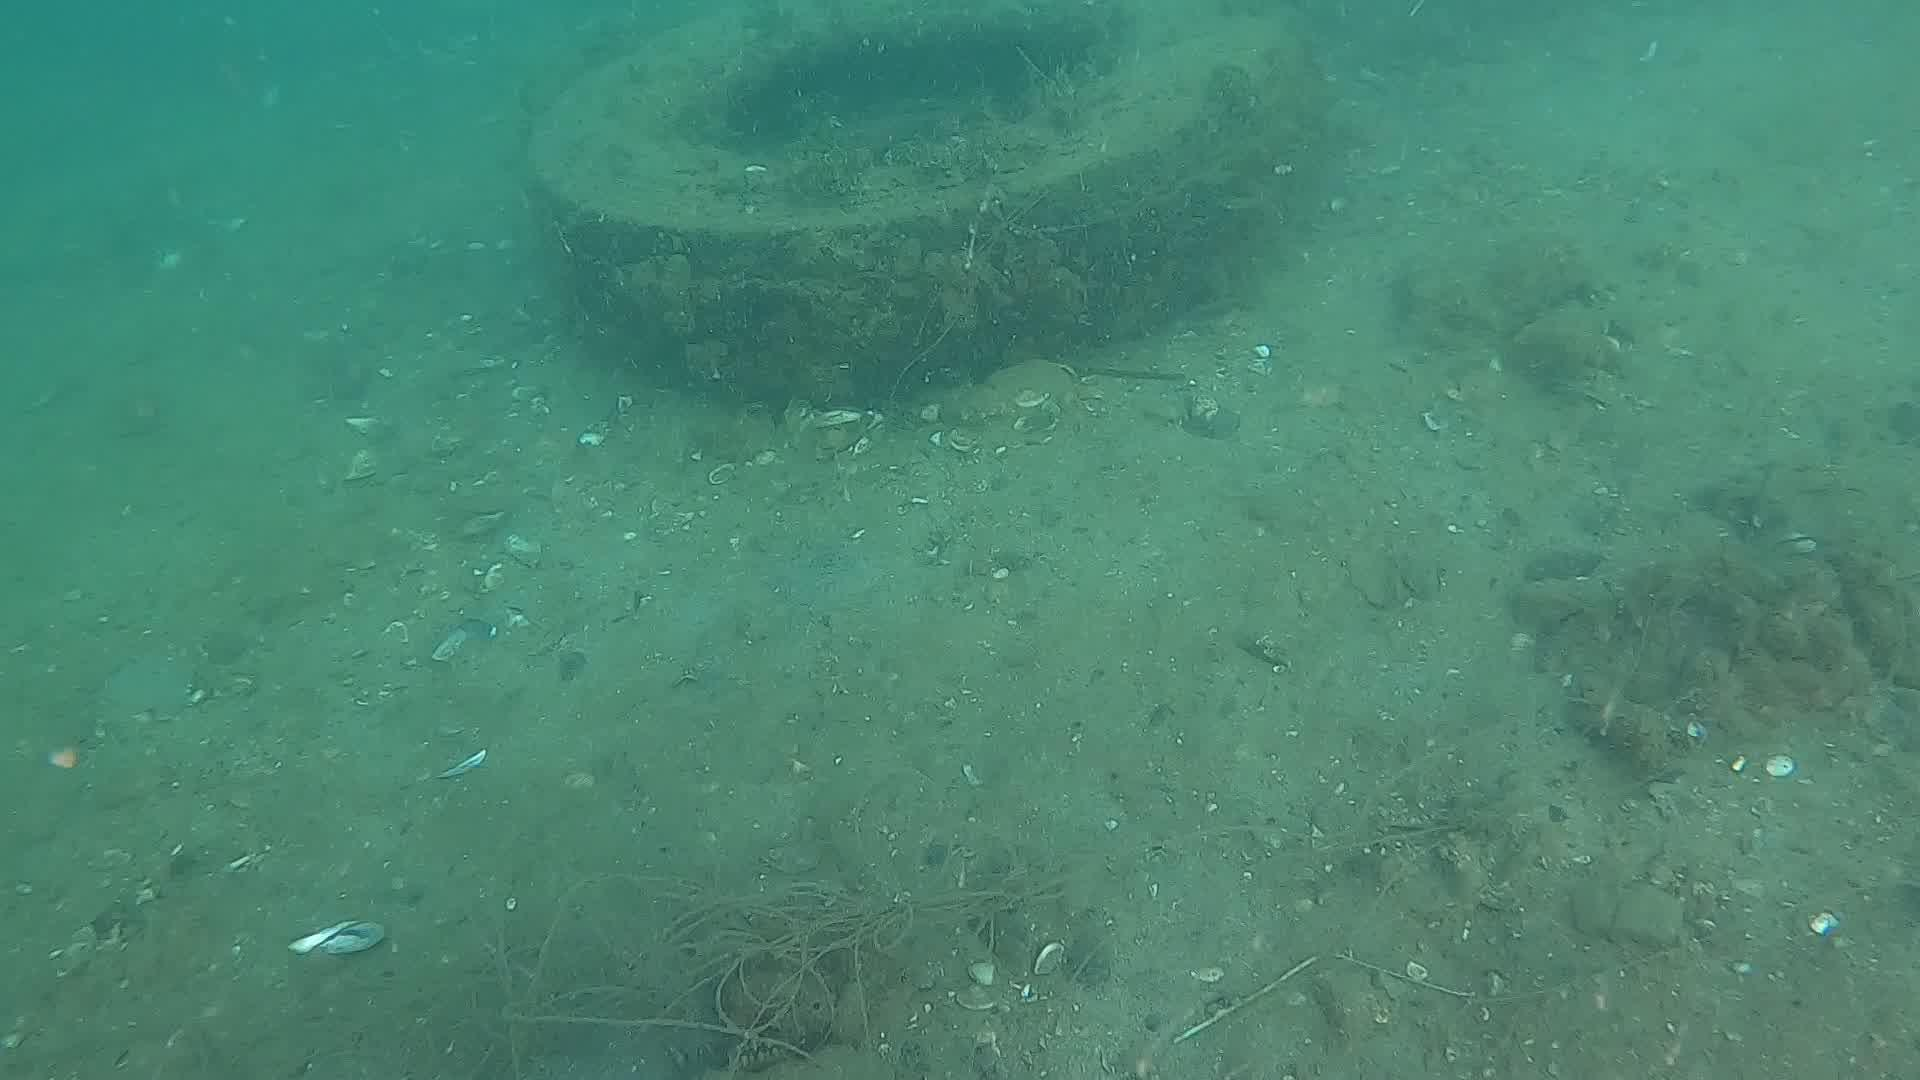tire: (522, 3, 1305, 414)
